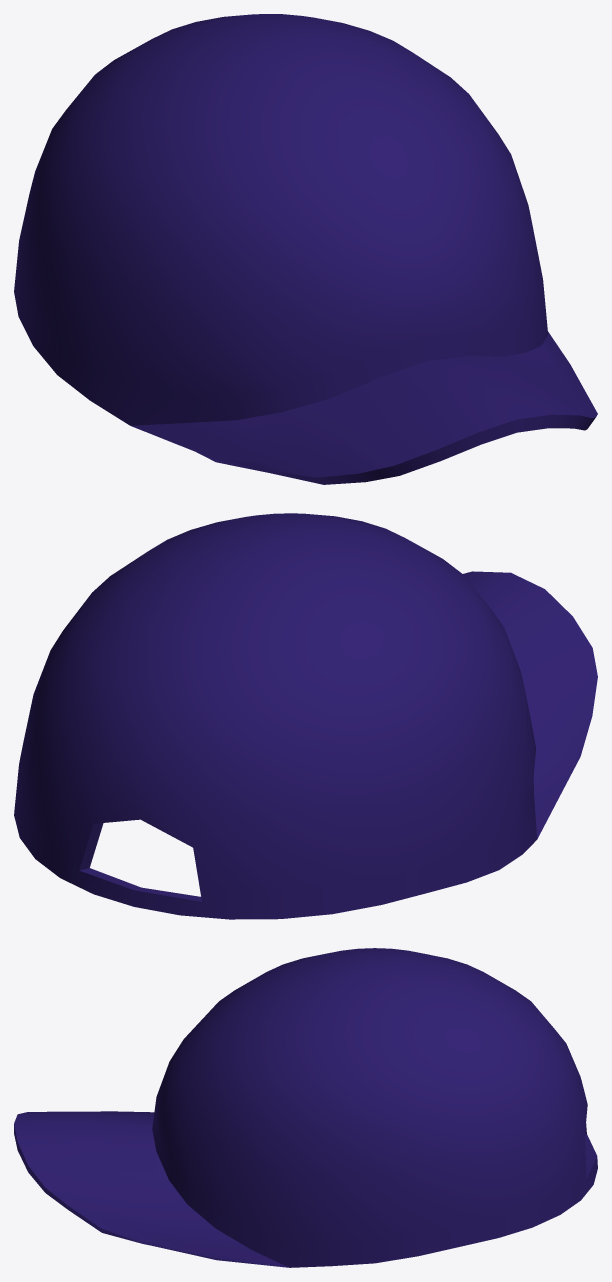
File: guard-cap.fbx
3 views of the same model, one above another, from view 1: azimuth 30°, elevation 25°; view 2: azimuth 150°, elevation 25°; view 3: azimuth 270°, elevation 25° (orthographic). The views are drawn at different scales.
Parts seen in each view (by area): view 1: Cap; view 2: Cap; view 3: Cap.
Boxes of the visible parts, x1,y1,x2,y2 form: Cap: (14, 14, 597, 484); Cap: (14, 513, 597, 919); Cap: (14, 948, 597, 1267).
Bounding box in the file's own units: 19.19 × 12.41 × 28.33.
